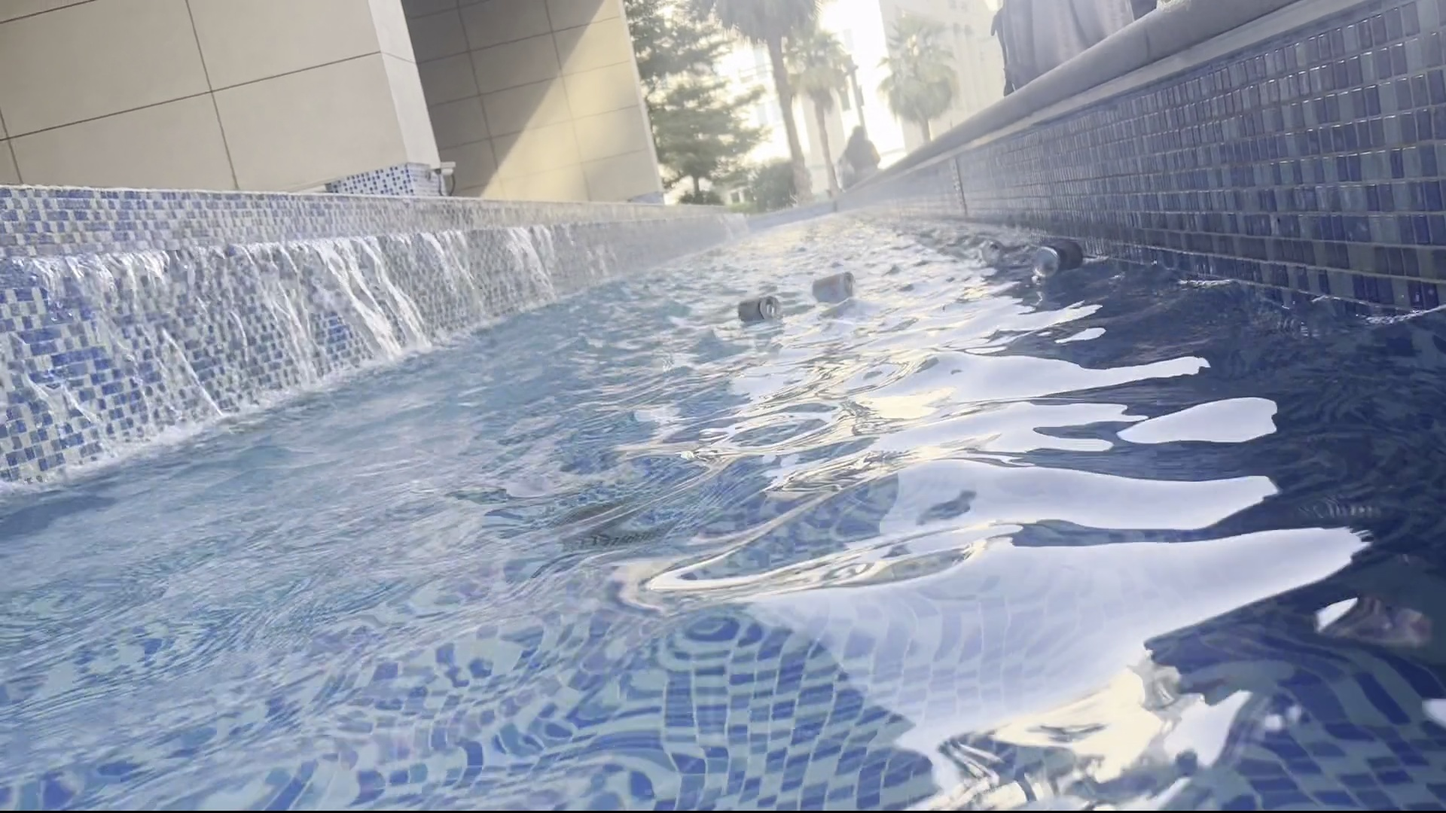debris: (1027, 233, 1088, 282), (734, 291, 784, 325), (806, 269, 859, 299), (974, 237, 1009, 266)
